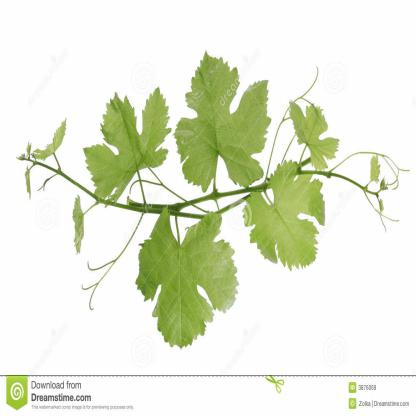grape leaf: (124, 206, 241, 359), (175, 51, 274, 199), (82, 87, 172, 213), (243, 164, 331, 283), (279, 95, 341, 174)
